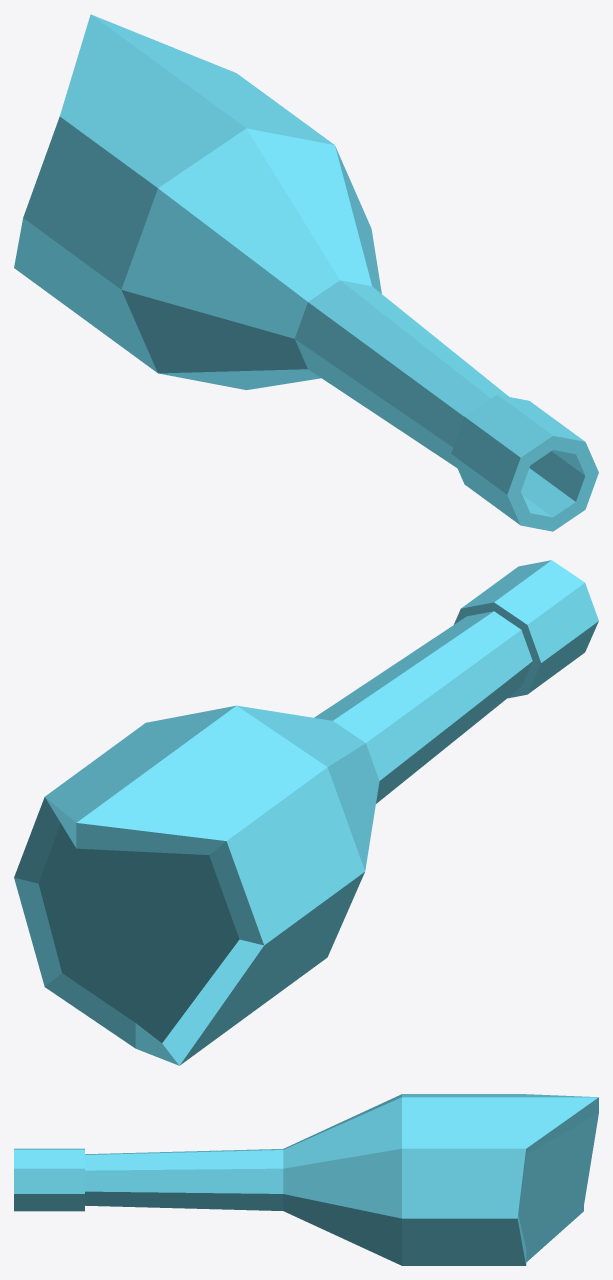
The model's file is GlassBottle_05.fbx.
3 renders of one model, top to bottom at view 1: azimuth 30°, elevation 25°; view 2: azimuth 150°, elevation 25°; view 3: azimuth 270°, elevation 25°, orthographic. The views are drawn at different scales.
Parts seen in each view (by area): view 1: GlassBottle_05; view 2: GlassBottle_05; view 3: GlassBottle_05.
Part boxes in pixels (x1,y1,x2,y2): GlassBottle_05: (14, 14, 598, 531); GlassBottle_05: (14, 560, 598, 1065); GlassBottle_05: (14, 1094, 598, 1265).
Size of the model in its own units: 16.97 by 16.97 by 54.34.
